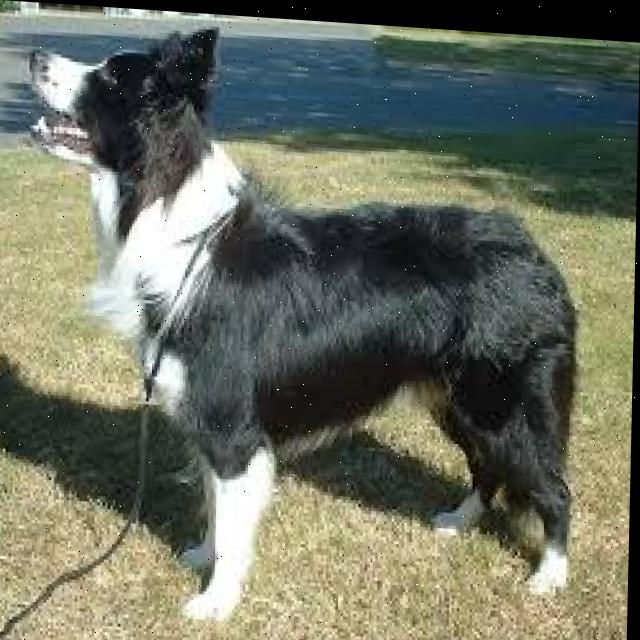BORDER_COLLIE: (17, 11, 605, 640)
